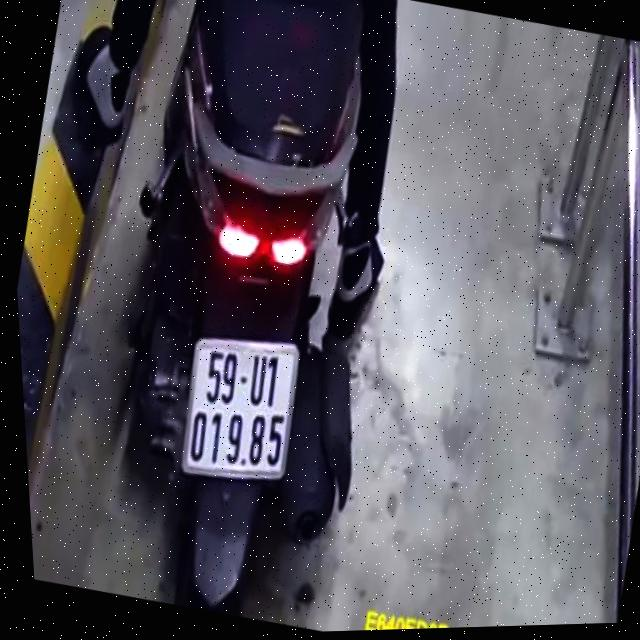motorcycle: (46, 0, 463, 637)
plate: (157, 317, 319, 499)
